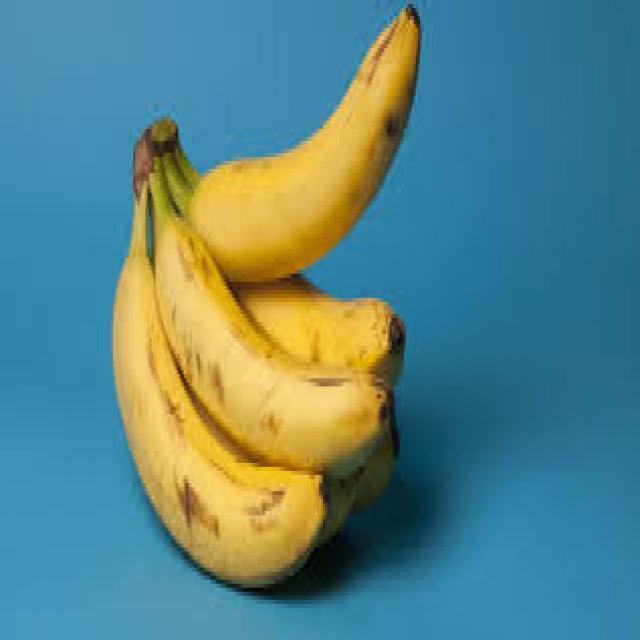banana: (113, 116, 414, 592), (198, 8, 422, 270)
